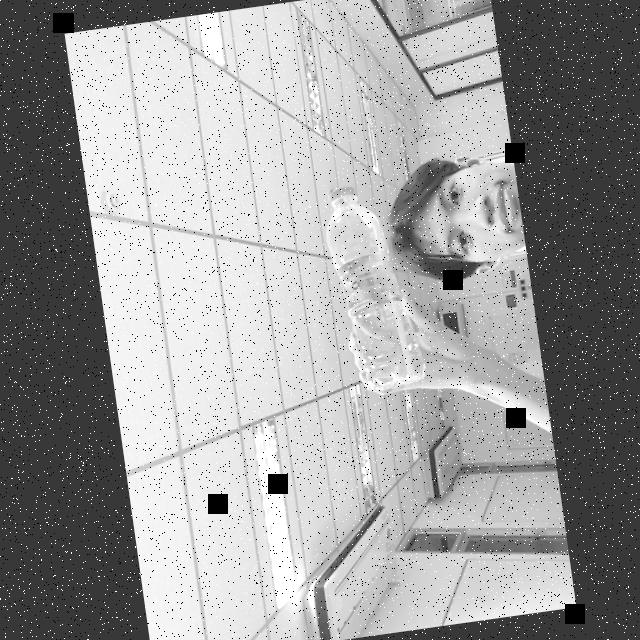plastic_bottle: (310, 172, 432, 402)
